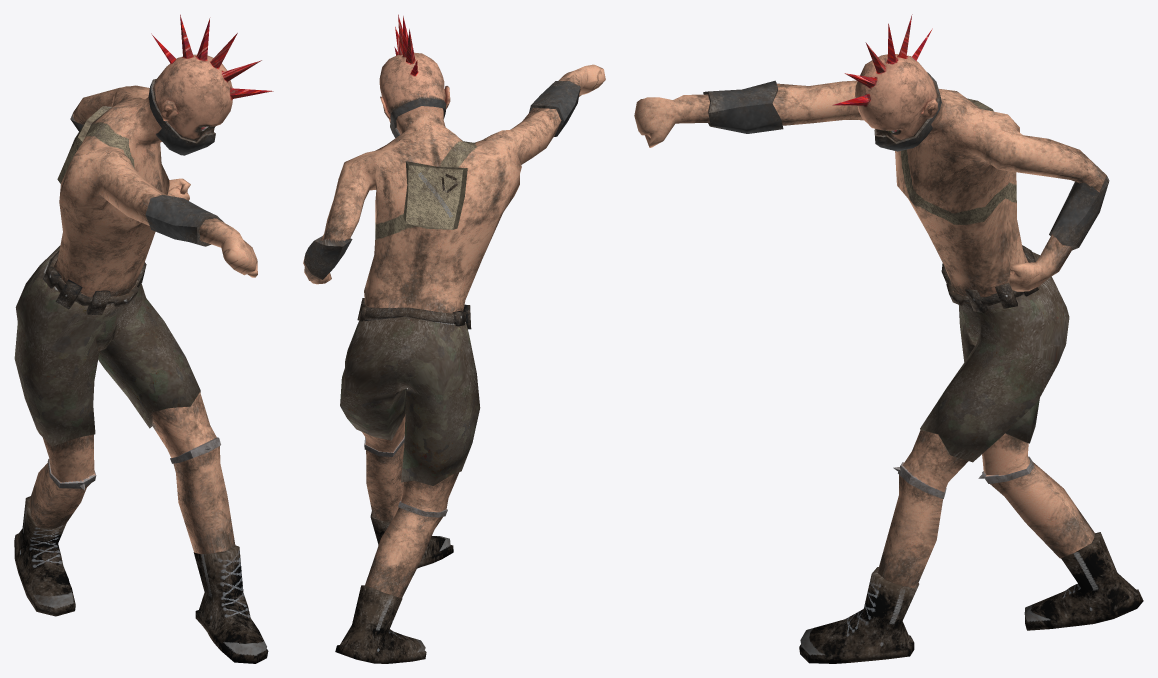
File: Anim_ataque_d2_npc2.0021.obj
3 views of the same model, side by side, from view 1: azimuth 30°, elevation 25°; view 2: azimuth 150°, elevation 25°; view 3: azimuth 270°, elevation 25° (orthographic). The views are drawn at different scales.
Visible parts, largest first — view 1: polySurface1; view 2: polySurface1; view 3: polySurface1.
Boxes of the visible parts, box(x1,y1,x2,y2) form: polySurface1: box(14, 14, 273, 663); polySurface1: box(303, 14, 605, 663); polySurface1: box(634, 14, 1143, 663).
Bounding box in the file's own units: 2.7 × 9.33 × 6.7.
